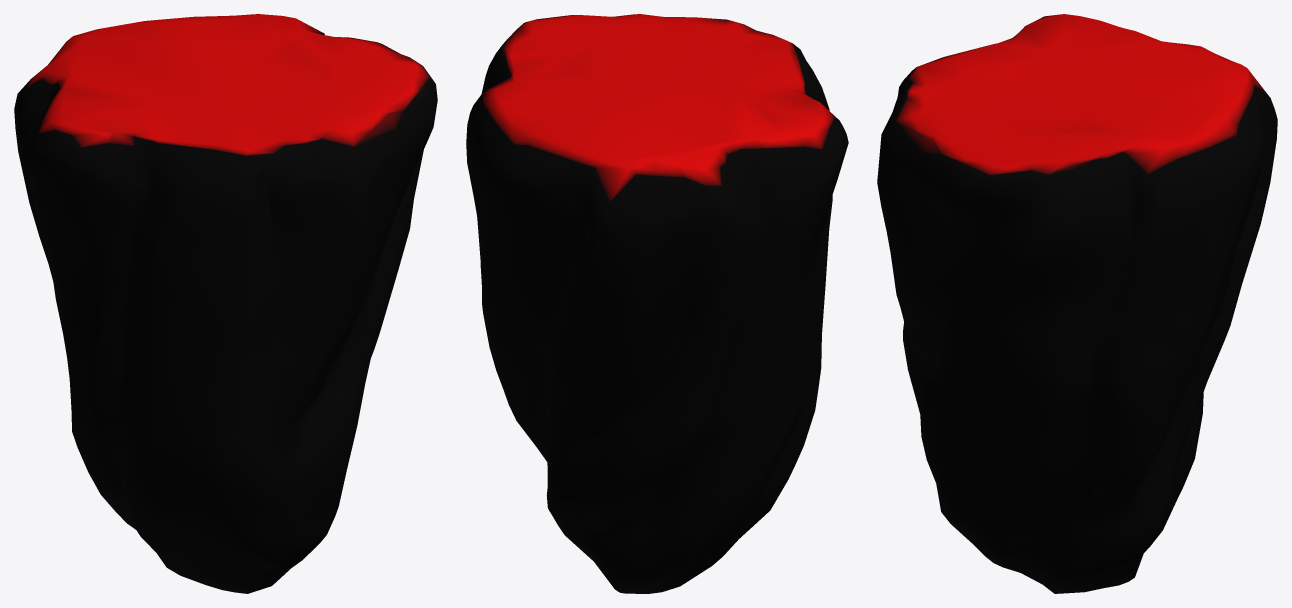
File: SM_Cliff_3.FBX
The picture shows the model from 3 angles, left to right: view 1: azimuth 30°, elevation 25°; view 2: azimuth 150°, elevation 25°; view 3: azimuth 270°, elevation 25°; orthographic projection. The views are drawn at different scales.
Visible parts, largest first — view 1: SM_Cliff_3; view 2: SM_Cliff_3; view 3: SM_Cliff_3.
Part boxes in pixels (x1=…): SM_Cliff_3: x1=14, y1=14, x2=437, y2=593; SM_Cliff_3: x1=466, y1=14, x2=848, y2=593; SM_Cliff_3: x1=877, y1=14, x2=1277, y2=593.
Size of the model in its own units: 4253 by 4087 by 5615.
